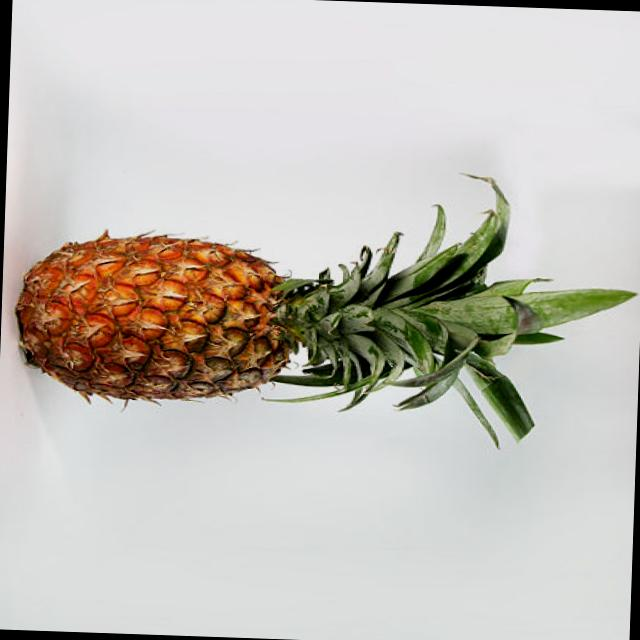pineapple: (8, 224, 370, 422)
